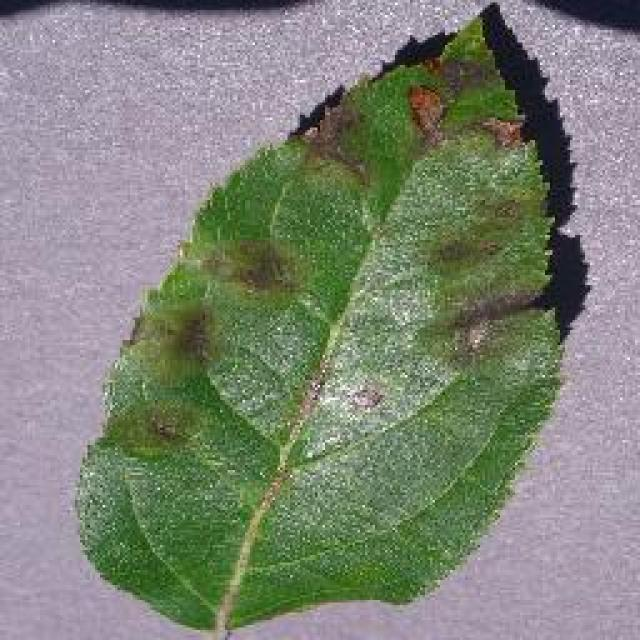apple scab disease: (72, 0, 572, 638)
